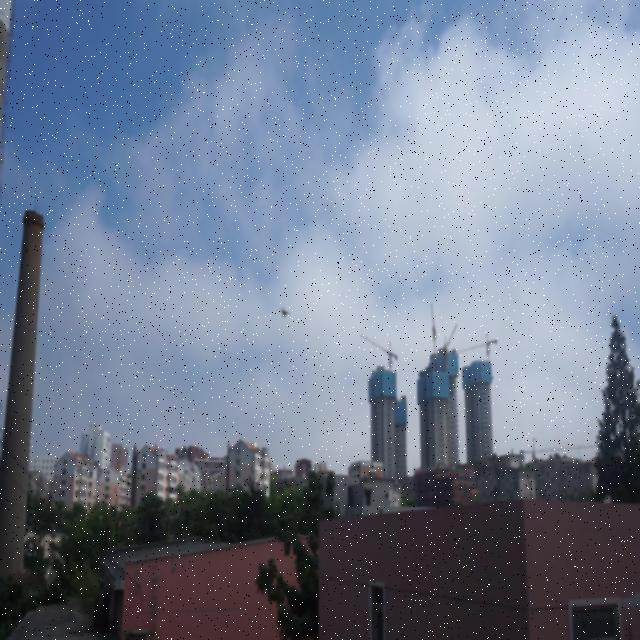UAV: (278, 304, 292, 319)
